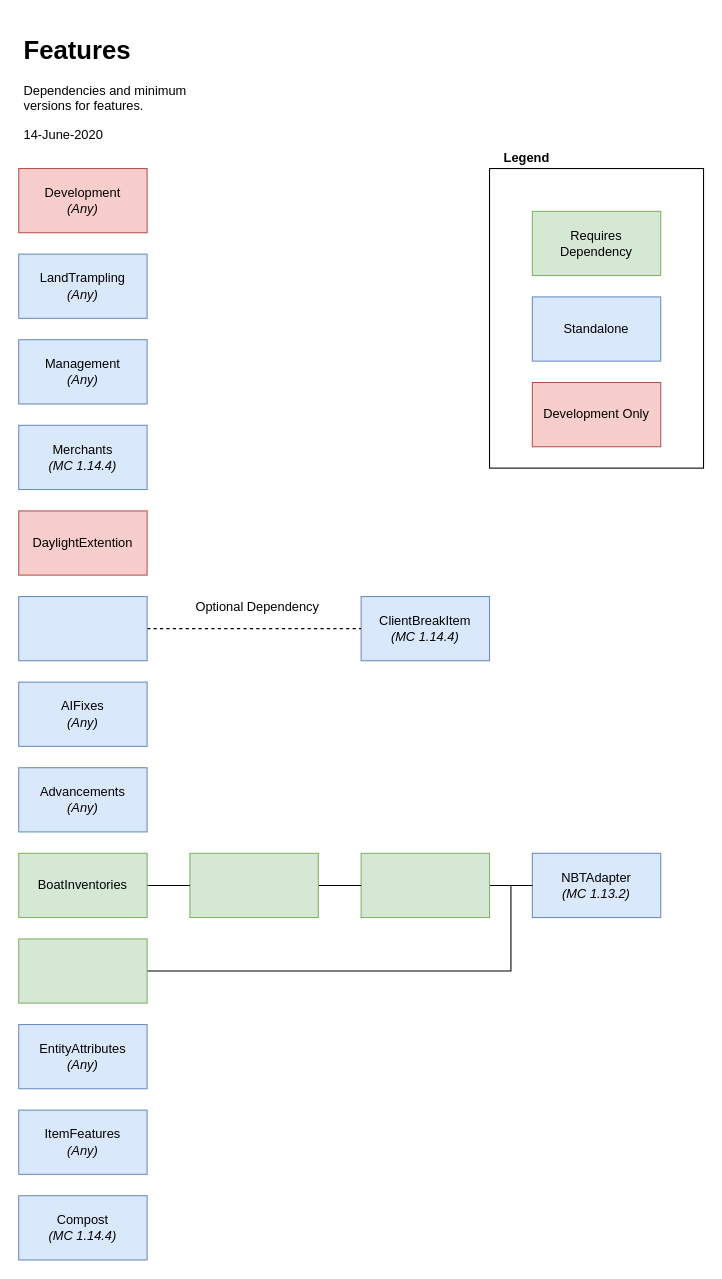
The diagram is 722 pixels wide and 1279 high, and some of its shapes have lost their labels. Each missing label, with the centre of its shape:
ChatManagerFeature: [82,970]
PlantHoeHarvest (MC 1.14.4): [82,628]
TagDataHolderFeature: [425,885]
TagInventoryFeature: [253,885]
